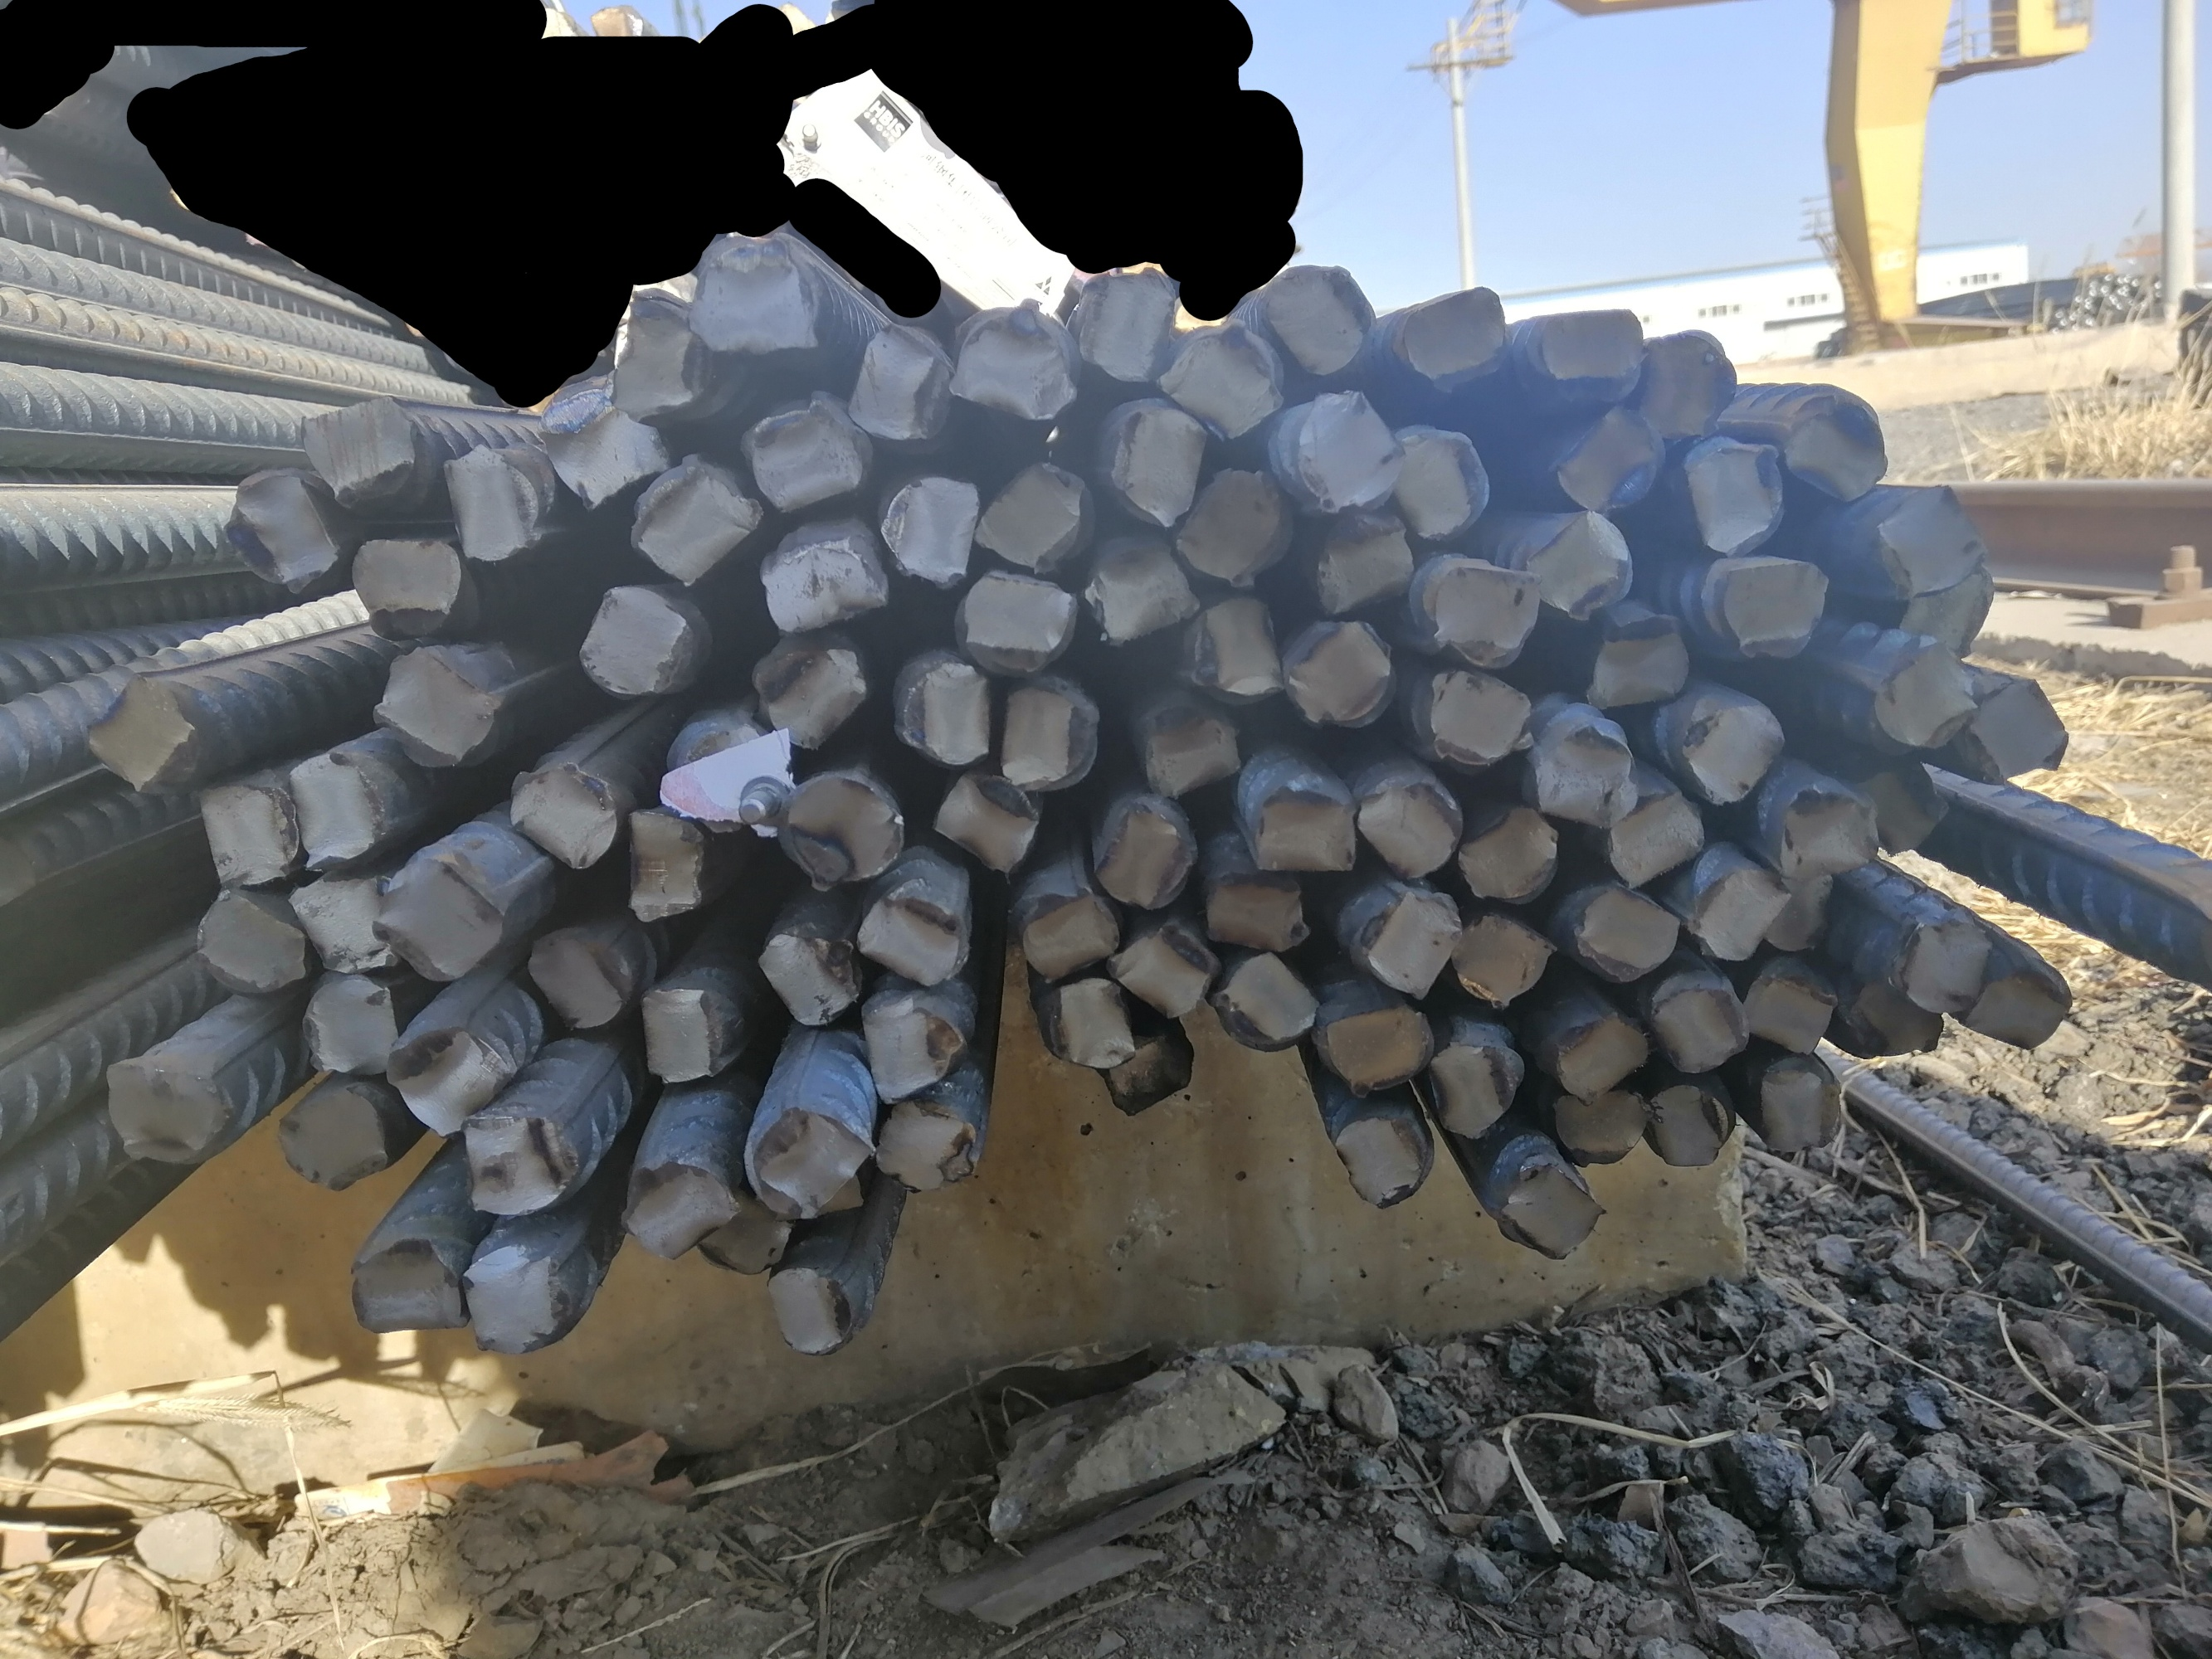rebar: (678, 228, 821, 364), (370, 856, 509, 986), (629, 457, 762, 587), (739, 392, 873, 519), (368, 641, 502, 767), (947, 300, 1081, 425), (770, 769, 906, 892), (603, 288, 722, 425), (1161, 315, 1286, 444), (533, 403, 671, 516), (1178, 464, 1299, 591), (221, 467, 340, 594), (387, 1026, 516, 1143), (106, 1056, 232, 1173), (748, 640, 875, 755), (755, 530, 887, 640), (1103, 396, 1210, 530), (296, 394, 418, 511), (1869, 638, 1984, 762), (458, 1105, 584, 1218), (87, 671, 199, 798), (1869, 479, 1985, 599), (572, 586, 690, 702), (619, 1145, 739, 1260), (1773, 387, 1893, 502), (1956, 669, 2069, 791), (1292, 390, 1401, 516), (436, 439, 544, 566), (748, 1103, 875, 1211), (847, 321, 955, 448), (288, 864, 404, 981), (1546, 401, 1668, 512), (854, 880, 971, 995), (1088, 532, 1204, 647), (1523, 504, 1637, 620), (969, 457, 1088, 568), (1069, 263, 1180, 382), (1712, 551, 1830, 662), (1680, 695, 1792, 812), (673, 718, 783, 836), (1316, 995, 1435, 1105), (1271, 261, 1381, 378), (277, 1086, 396, 1194), (856, 986, 962, 1107), (345, 1236, 469, 1338), (1686, 429, 1788, 552), (507, 756, 617, 871), (281, 751, 383, 873), (962, 568, 1075, 678), (1285, 620, 1398, 730), (865, 1093, 983, 1197), (880, 467, 980, 591), (525, 925, 636, 1035), (1532, 714, 1642, 826), (1389, 418, 1492, 537), (193, 887, 314, 988), (1309, 500, 1417, 612), (1001, 680, 1107, 793), (1360, 885, 1462, 1002), (1107, 910, 1218, 1016), (1182, 589, 1283, 706), (298, 971, 406, 1079), (460, 1248, 568, 1356), (1253, 770, 1360, 880), (1358, 770, 1462, 882), (352, 535, 465, 638), (1093, 795, 1194, 910), (1398, 286, 1513, 387), (193, 779, 298, 889), (1426, 667, 1537, 770), (1774, 779, 1886, 882), (629, 978, 732, 1087), (1131, 694, 1243, 795), (1579, 608, 1694, 706), (1956, 958, 2073, 1054), (936, 770, 1039, 878), (1682, 856, 1790, 958), (1429, 559, 1543, 657), (1499, 1164, 1607, 1265), (1534, 303, 1645, 401), (1211, 950, 1325, 1046), (1572, 882, 1677, 985), (1642, 328, 1736, 441), (751, 925, 856, 1026), (1454, 802, 1560, 901), (1332, 1103, 1431, 1209), (619, 807, 706, 927), (899, 653, 992, 767), (1550, 1004, 1651, 1107), (1096, 1006, 1191, 1115), (1447, 911, 1557, 1006), (1023, 887, 1123, 988), (1605, 791, 1708, 889), (1858, 749, 1952, 856), (1204, 870, 1313, 962), (1642, 981, 1748, 1073), (1041, 967, 1131, 1075), (1896, 915, 1992, 1014), (1433, 1033, 1520, 1141), (765, 1256, 852, 1363), (1902, 566, 1999, 660), (1759, 1051, 1841, 1162), (1748, 859, 1837, 958), (692, 1183, 784, 1277), (1544, 1087, 1647, 1171), (1644, 1080, 1733, 1176), (1741, 965, 1837, 1054), (1842, 983, 1944, 1065)
